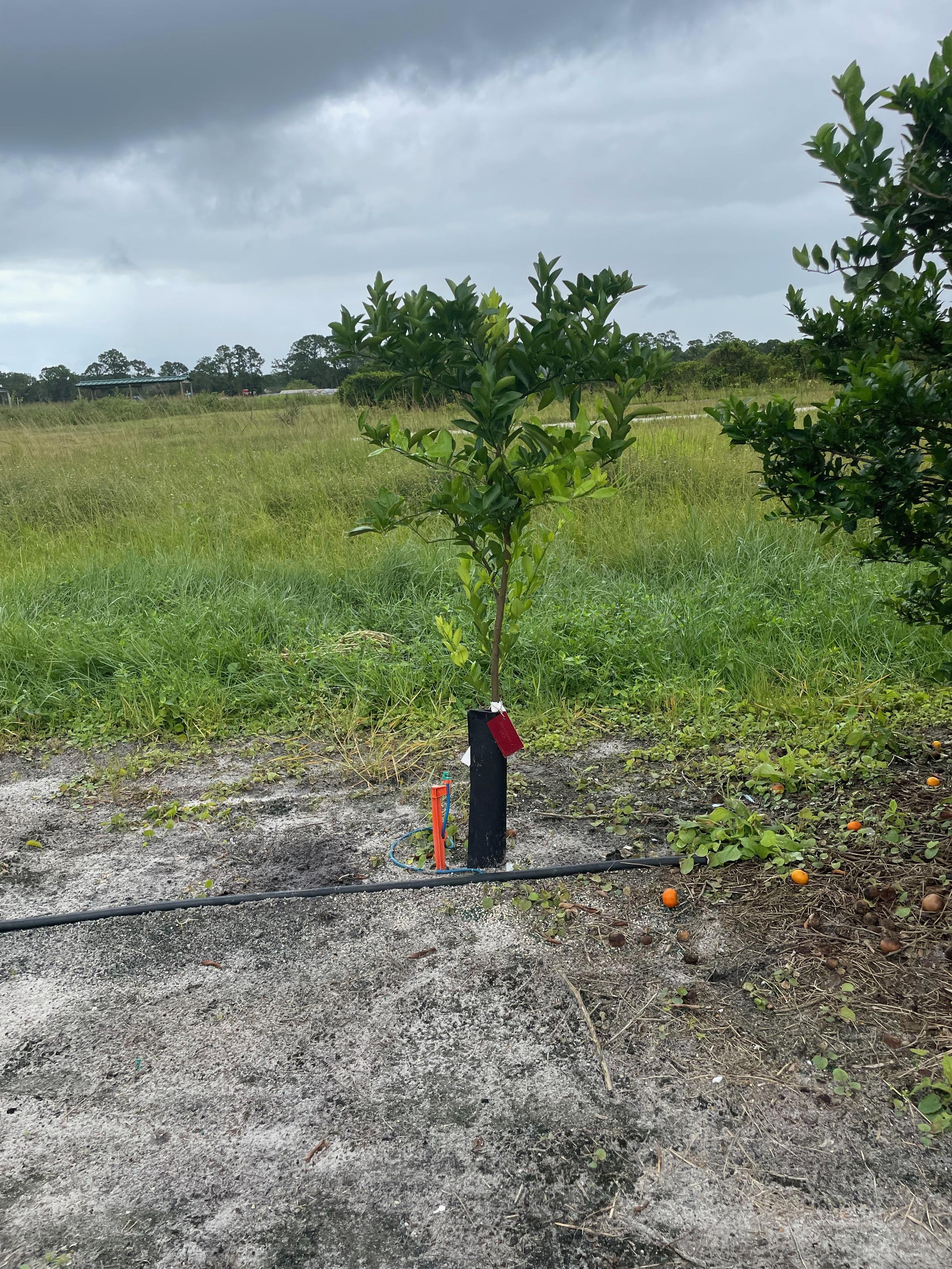fruit_on_tree: (919, 891, 947, 916), (660, 886, 681, 909), (606, 932, 630, 950), (789, 866, 810, 886), (878, 936, 901, 954), (768, 780, 787, 797), (844, 817, 864, 832), (924, 774, 941, 788), (930, 737, 944, 751)
